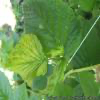Raspberry leaf: (21, 0, 83, 61), (0, 32, 48, 86), (37, 58, 67, 97)
